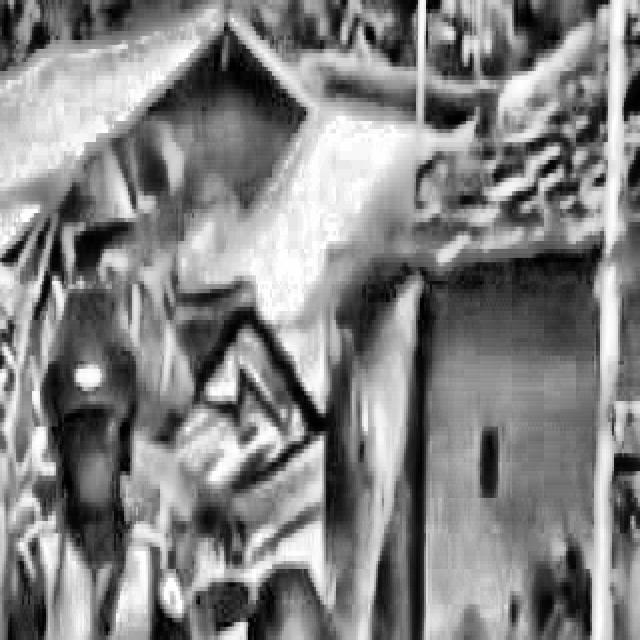Lori: (0, 266, 504, 640)
